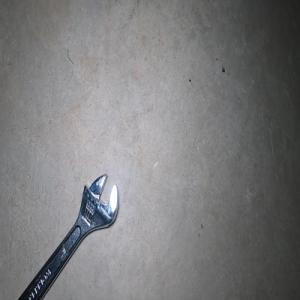Wrench: (17, 173, 118, 300)
